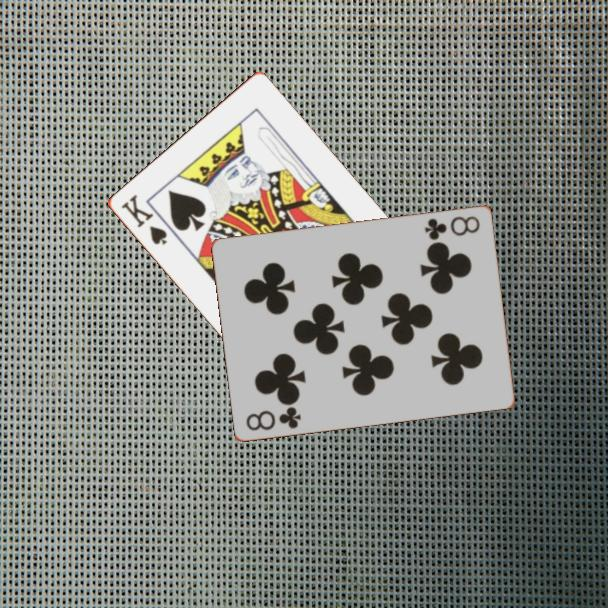c08: (421, 212, 483, 243), (243, 403, 304, 433)
s13: (117, 191, 170, 248)
